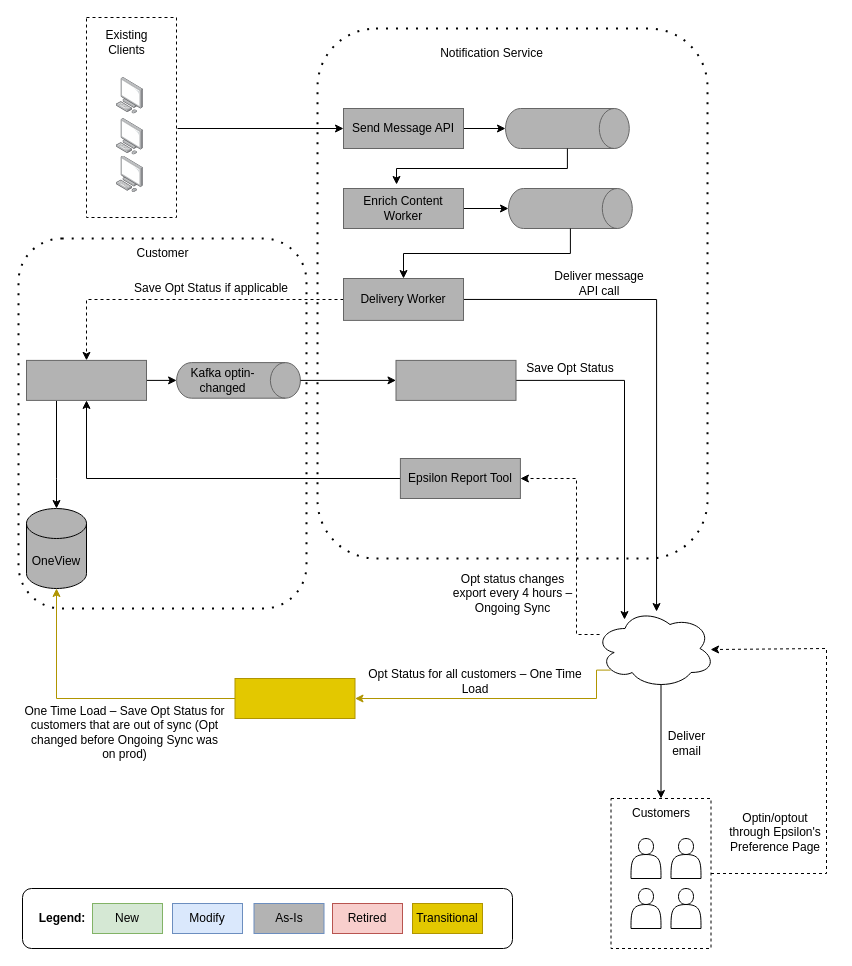
The diagram is 852 pixels wide and 966 high, and some of its shapes have lost their labels. Each missing label, with the centre of its shape:
Customer Opt API: (x=86, y=379)
Epsilon Opt Status Load Batch: (x=294, y=698)
Epsilon PCM: (x=654, y=648)
Notification customer event consumer: (x=455, y=379)
RabbitMQ Msg deliver: (x=570, y=208)
RabbitMQ Msg enrich: (x=566, y=128)
